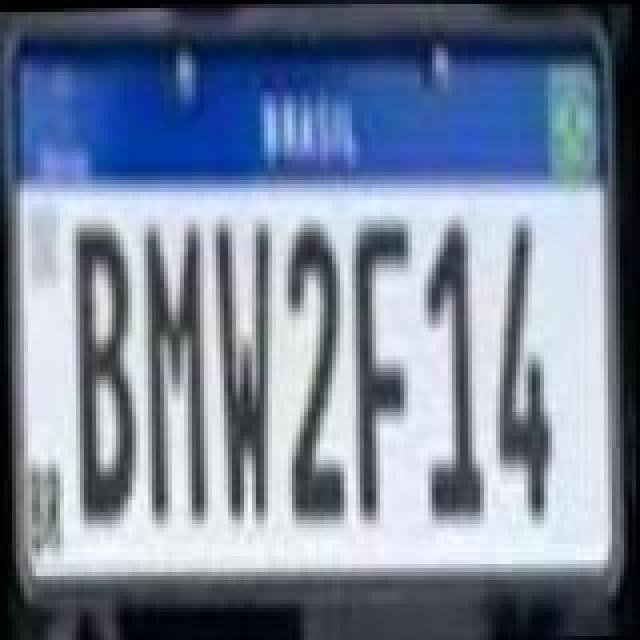1: (418, 212, 486, 520)
2: (276, 216, 348, 524)
4: (486, 214, 554, 522)
B: (66, 222, 142, 530)
F: (348, 214, 420, 522)
M: (138, 214, 214, 526)
W: (210, 218, 278, 526)
